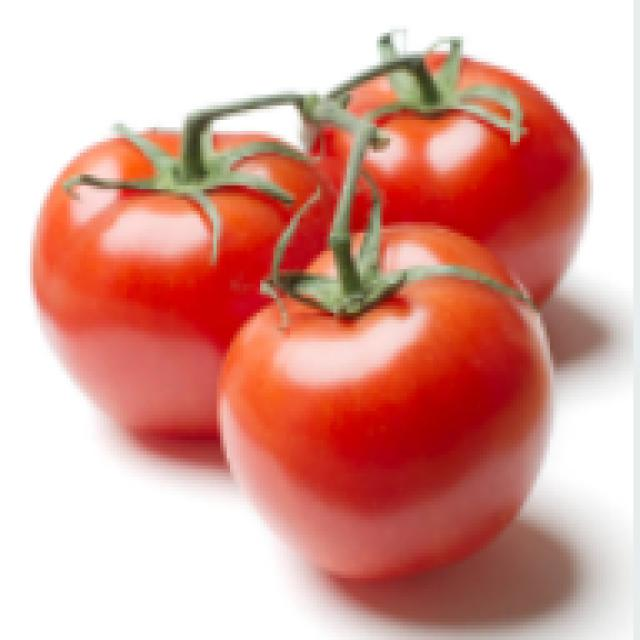Tomato: (205, 207, 571, 596), (28, 111, 341, 415)
